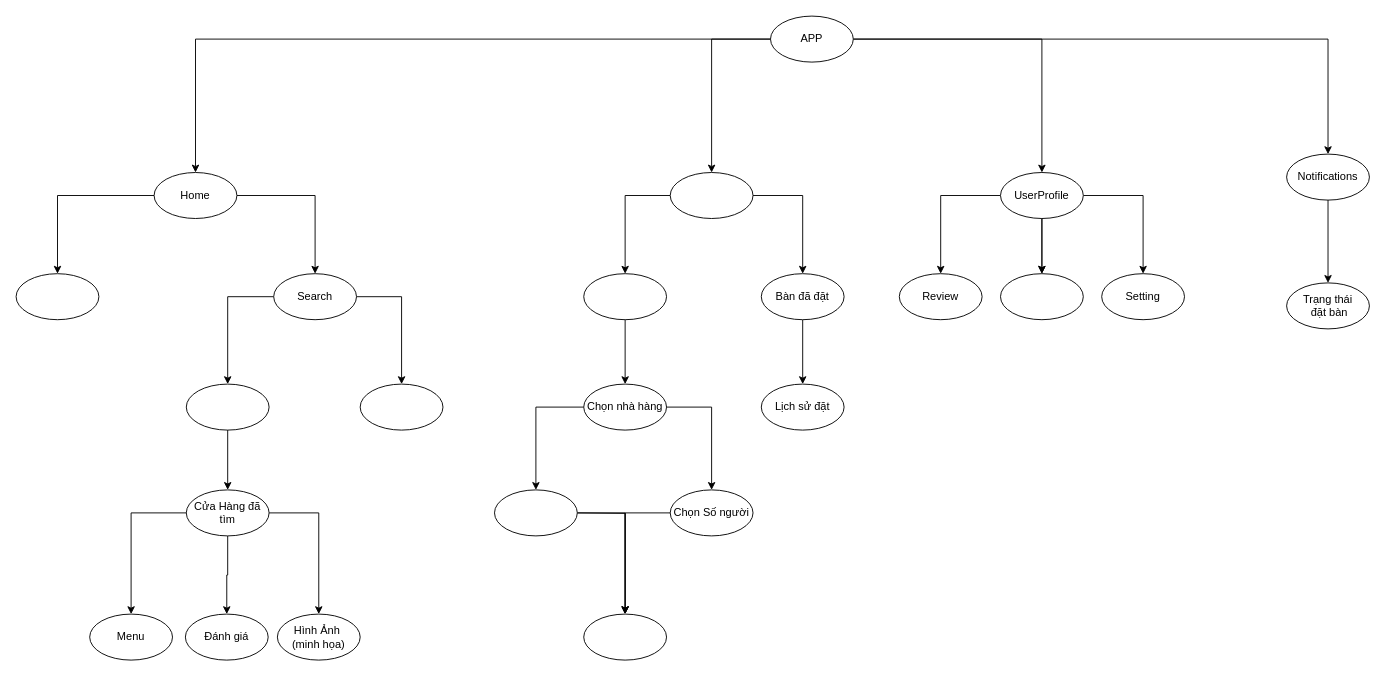
Some shapes in this 1386 by 676 pixel diagram are drawn without their labels. Each missing label, with the centre of its shape:
"Booking" goes at (711,195).
"Chọn giờ" goes at (535,512).
"Favorites" goes at (1041,296).
"Kết quả" goes at (227,406).
"Lọc kết quả" goes at (401,406).
"Recommended" goes at (57,296).
"Đặt bàn" goes at (625,636).
"Đặt bàn mới" goes at (625,296).
